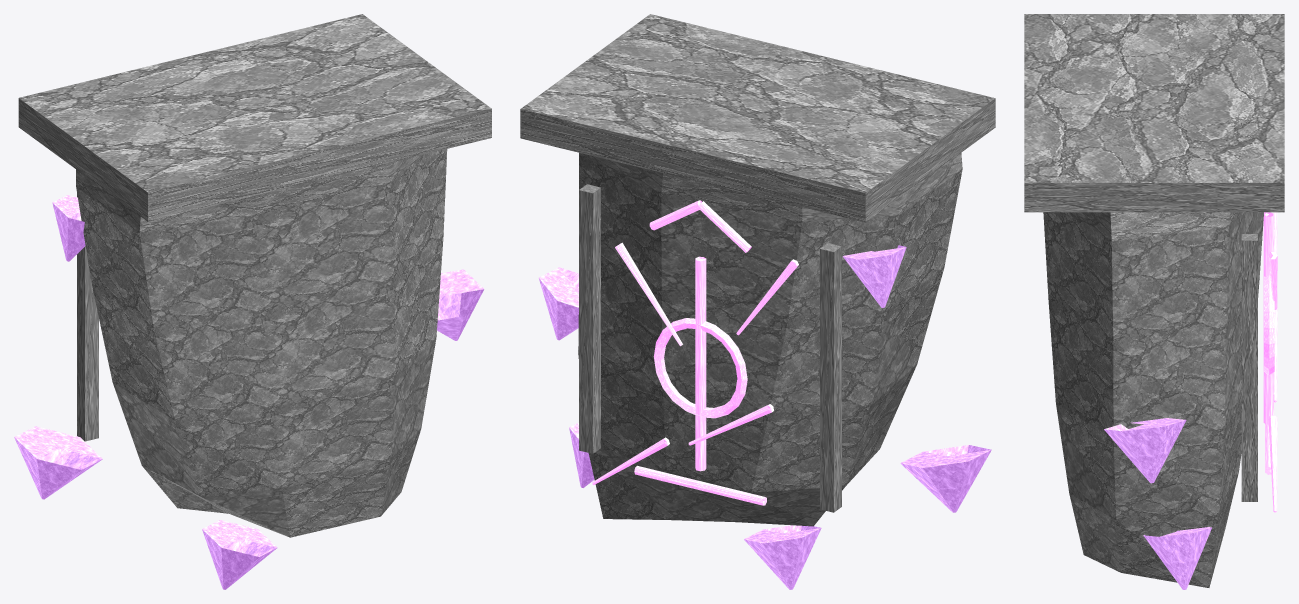
The model's file is underworld-deepstone-fracture.glb.
3 views of the same model, side by side, from view 1: azimuth 30°, elevation 25°; view 2: azimuth 150°, elevation 25°; view 3: azimuth 270°, elevation 25° (orthographic).
Parts seen in each view (by area): view 1: fracture-stone, fracture-detail-a; view 2: fracture-stone, fracture-detail-a, fracture-rune, fracture-detail-b; view 3: fracture-stone, fracture-detail-a, fracture-rune, fracture-detail-b.
Boxes of the visible parts, x1=… form: fracture-stone: x1=18, y1=14, x2=491, y2=537; fracture-detail-a: x1=14, y1=195, x2=484, y2=589; fracture-stone: x1=520, y1=14, x2=995, y2=526; fracture-detail-a: x1=539, y1=245, x2=991, y2=589; fracture-rune: x1=634, y1=200, x2=766, y2=505; fracture-detail-b: x1=592, y1=242, x2=798, y2=484; fracture-stone: x1=1024, y1=14, x2=1284, y2=587; fracture-detail-a: x1=1104, y1=418, x2=1211, y2=589; fracture-rune: x1=1263, y1=212, x2=1274, y2=474; fracture-detail-b: x1=1268, y1=212, x2=1277, y2=512.
Bounding box in the file's own units: 1.1 × 1.14 × 0.56.
4 materials, 4 textured.
